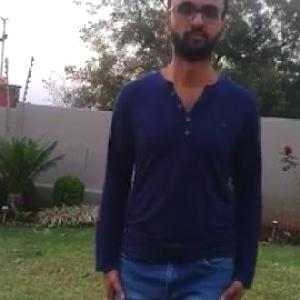follow: (90, 0, 261, 299)
